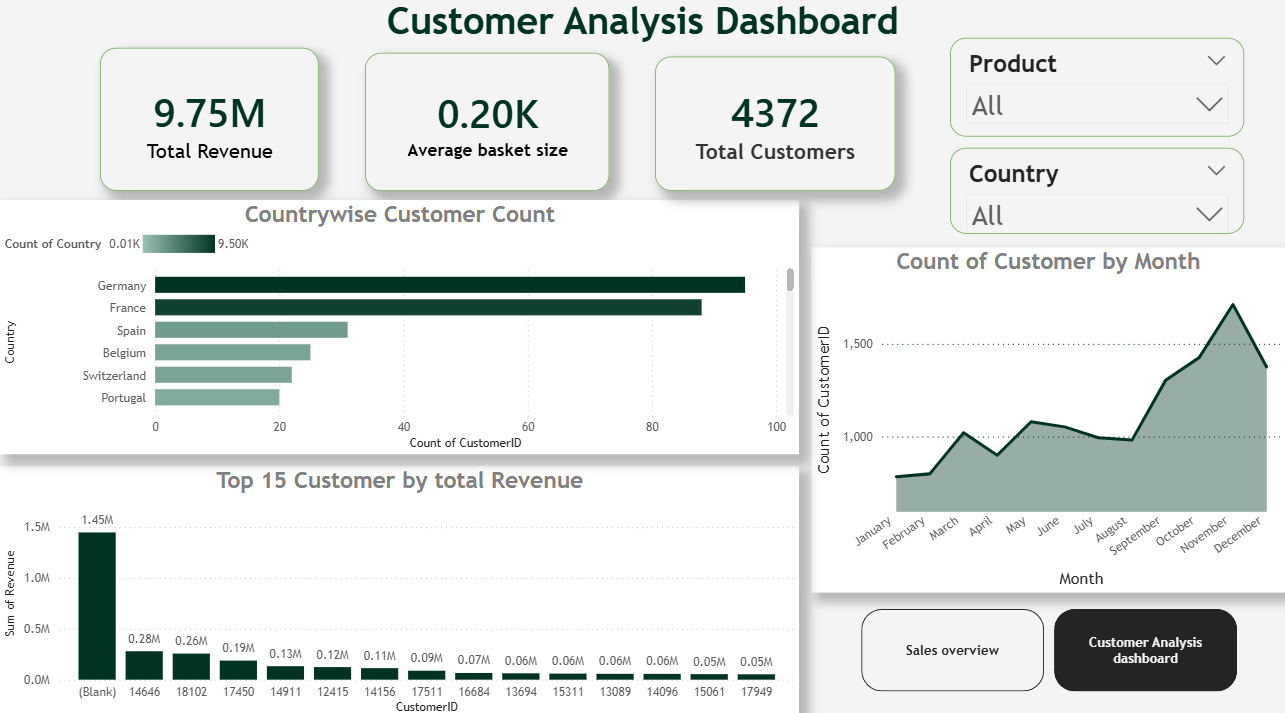

Layout of this report page (visuals, bound fields, positions):
{"tool":"powerbi","page":{"name":"Customer Analysis dashboard","canvas":[1280,720],"ordinal":1},"visuals":[{"type":"cardVisual","fields":{"Data":["Sum(Retail.Revenue)"]},"box":[99.6,54.8,203.4,125.5],"z":0},{"type":"cardVisual","fields":{"Data":["Retail.Averagebasketsize"]},"box":[365,54.8,239.5,124.1],"z":1000},{"type":"areaChart","title":"Count of Customer by Month","fields":{"Category":["Retail.InvoiceDate.Variation.Date Hierarchy.Month"],"Y":["Count(Retail.CustomerID)"]},"box":[807.9,252.5,471.8,343.4],"z":2000},{"type":"slicer","fields":{"Values":["Retail.Country"]},"box":[946.5,152.9,292.9,86.6],"z":3000},{"type":"slicer","fields":{"Values":["Retail.Description"]},"box":[946.5,54.8,292.9,98.1],"z":4000},{"type":"columnChart","title":"Top 15 Customer by total Revenue","fields":{"Category":["Retail.CustomerID"],"Y":["Sum(Retail.Revenue)"]},"box":[0,469.9,795.6,250.9],"z":5000},{"type":"pageNavigator","box":[857,611.7,375.1,82.2],"z":6000},{"type":"barChart","title":"Countrywise Customer Count","fields":{"Category":["Retail.Country"],"Y":["Count(Retail.CustomerID)"]},"box":[0,204.7,795.6,252.7],"z":7000},{"type":"cardVisual","fields":{"Data":["Retail.# Customer"]},"box":[657.9,54.8,239.5,125.5],"z":8000},{"type":"textbox","box":[10.1,0,1269.6,54.8],"z":9000}]}

Visuals, with their boxes in screenshot pixels (x1, y1, x2, y2), scaled from the page's 1280x720 canvas onto the 1285x713 screenshot:
cardVisual - Sum(Retail.Revenue): [x1=100, y1=54, x2=304, y2=179]
cardVisual - Retail.Averagebasketsize: [x1=366, y1=54, x2=607, y2=177]
"Count of Customer by Month" areaChart: [x1=811, y1=250, x2=1284, y2=590]
slicer - Retail.Country: [x1=950, y1=151, x2=1244, y2=237]
slicer - Retail.Description: [x1=950, y1=54, x2=1244, y2=151]
"Top 15 Customer by total Revenue" columnChart: [x1=0, y1=465, x2=799, y2=712]
pageNavigator: [x1=860, y1=606, x2=1237, y2=687]
"Countrywise Customer Count" barChart: [x1=0, y1=203, x2=799, y2=453]
cardVisual - Retail.# Customer: [x1=660, y1=54, x2=901, y2=179]
textbox: [x1=10, y1=0, x2=1284, y2=54]
